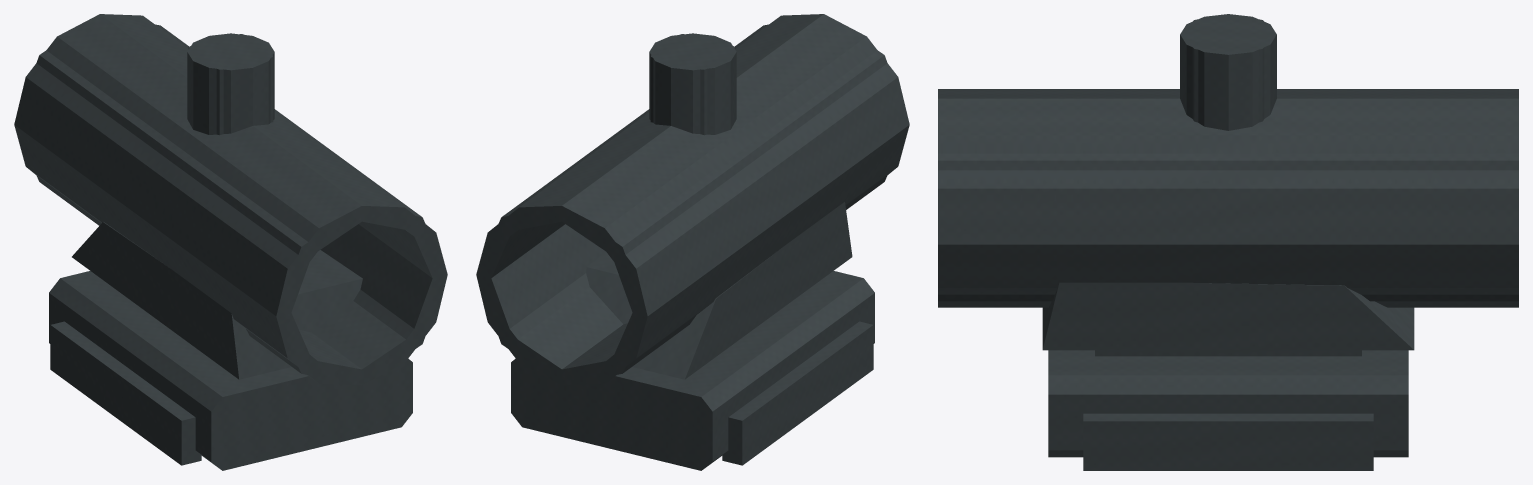
File: prism2.glb
3 views of the same model, side by side, from view 1: azimuth 30°, elevation 25°; view 2: azimuth 150°, elevation 25°; view 3: azimuth 270°, elevation 25° (orthographic). The views are drawn at different scales.
Visible parts, largest first — view 1: prism2_foot, prism2_foot.001; view 2: prism2_foot, prism2_foot.001; view 3: prism2_foot, prism2_foot.001.
Boxes of the visible parts, x1,y1,x2,y2 form: prism2_foot: [14, 14, 447, 470]; prism2_foot.001: [36, 24, 447, 384]; prism2_foot: [476, 14, 909, 470]; prism2_foot.001: [476, 24, 887, 384]; prism2_foot: [938, 14, 1518, 470]; prism2_foot.001: [938, 14, 1518, 350].
Bounding box in the file's own units: 0.0912 × 0.128 × 0.18.
1 material, 1 textured.
